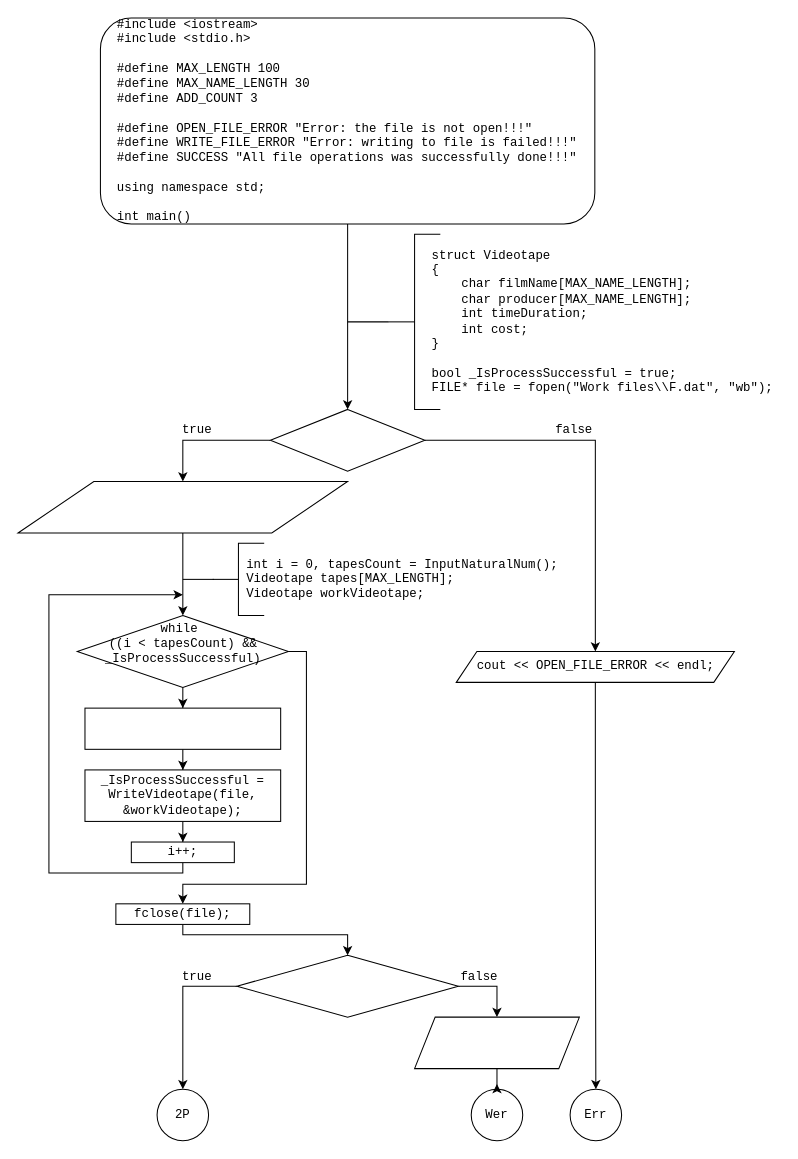
Some shapes in this 798 by 1159 pixel diagram are drawn without their labels. The centre of each missing label's shape, as x and y in pixels:
cout << "Input count of videotapes (1 to 100):" << endl;: the point at 182,506
cout << WRITE_FILE_ERROR << endl;: the point at 496,1042
if (_IsProcessSuccessful): the point at 347,985
if (file != NULL): the point at 347,439
Videotape workVideotape = InputVideotape();: the point at 182,728
